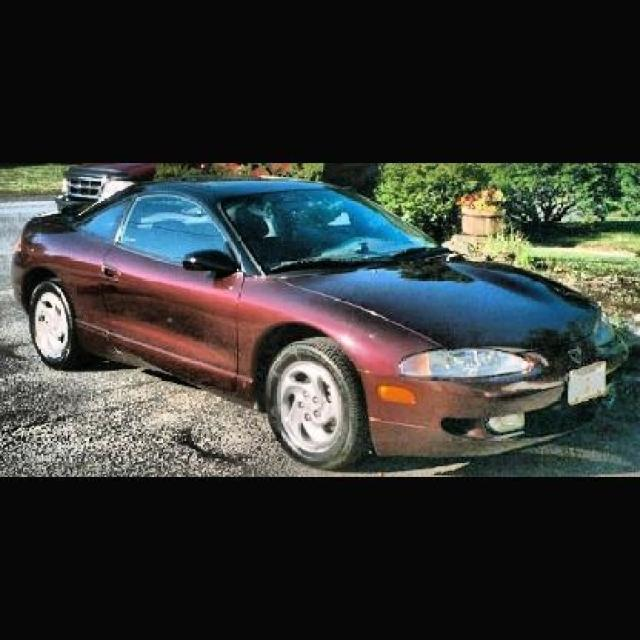maroon: (17, 174, 631, 458)
